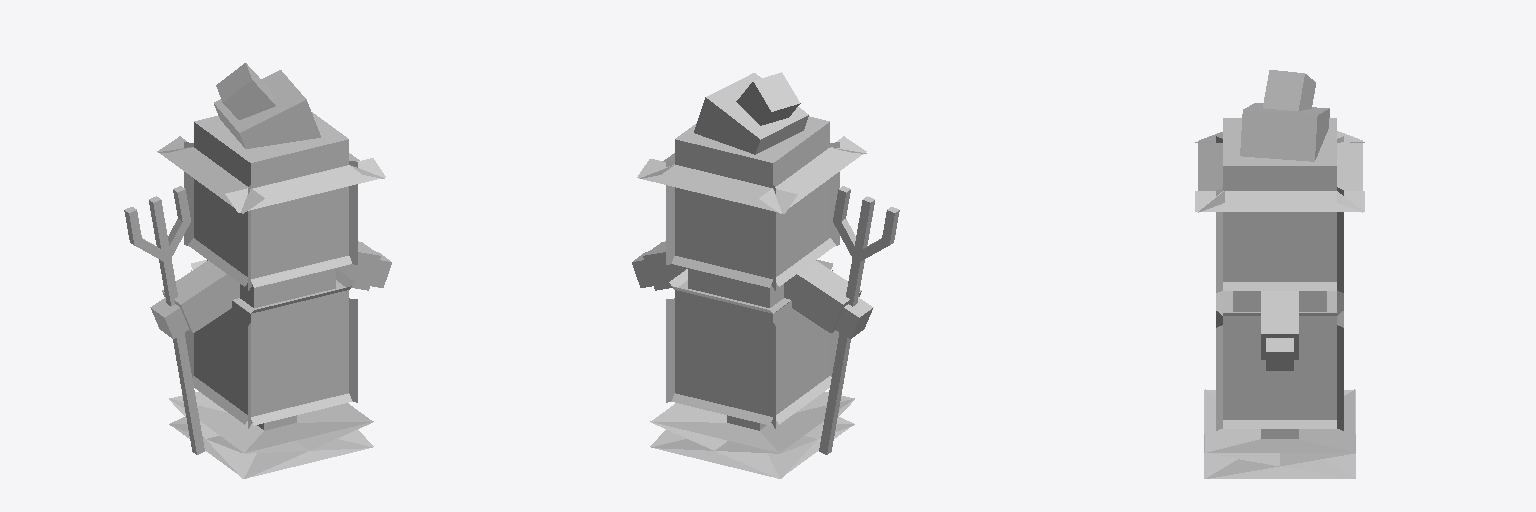
The model's file is agriculture_scarecrow.obj.
3 views of the same model, side by side, from view 1: azimuth 30°, elevation 25°; view 2: azimuth 150°, elevation 25°; view 3: azimuth 270°, elevation 25° (orthographic).
Bounding box in the file's own units: 1.97 × 2.67 × 1.12.